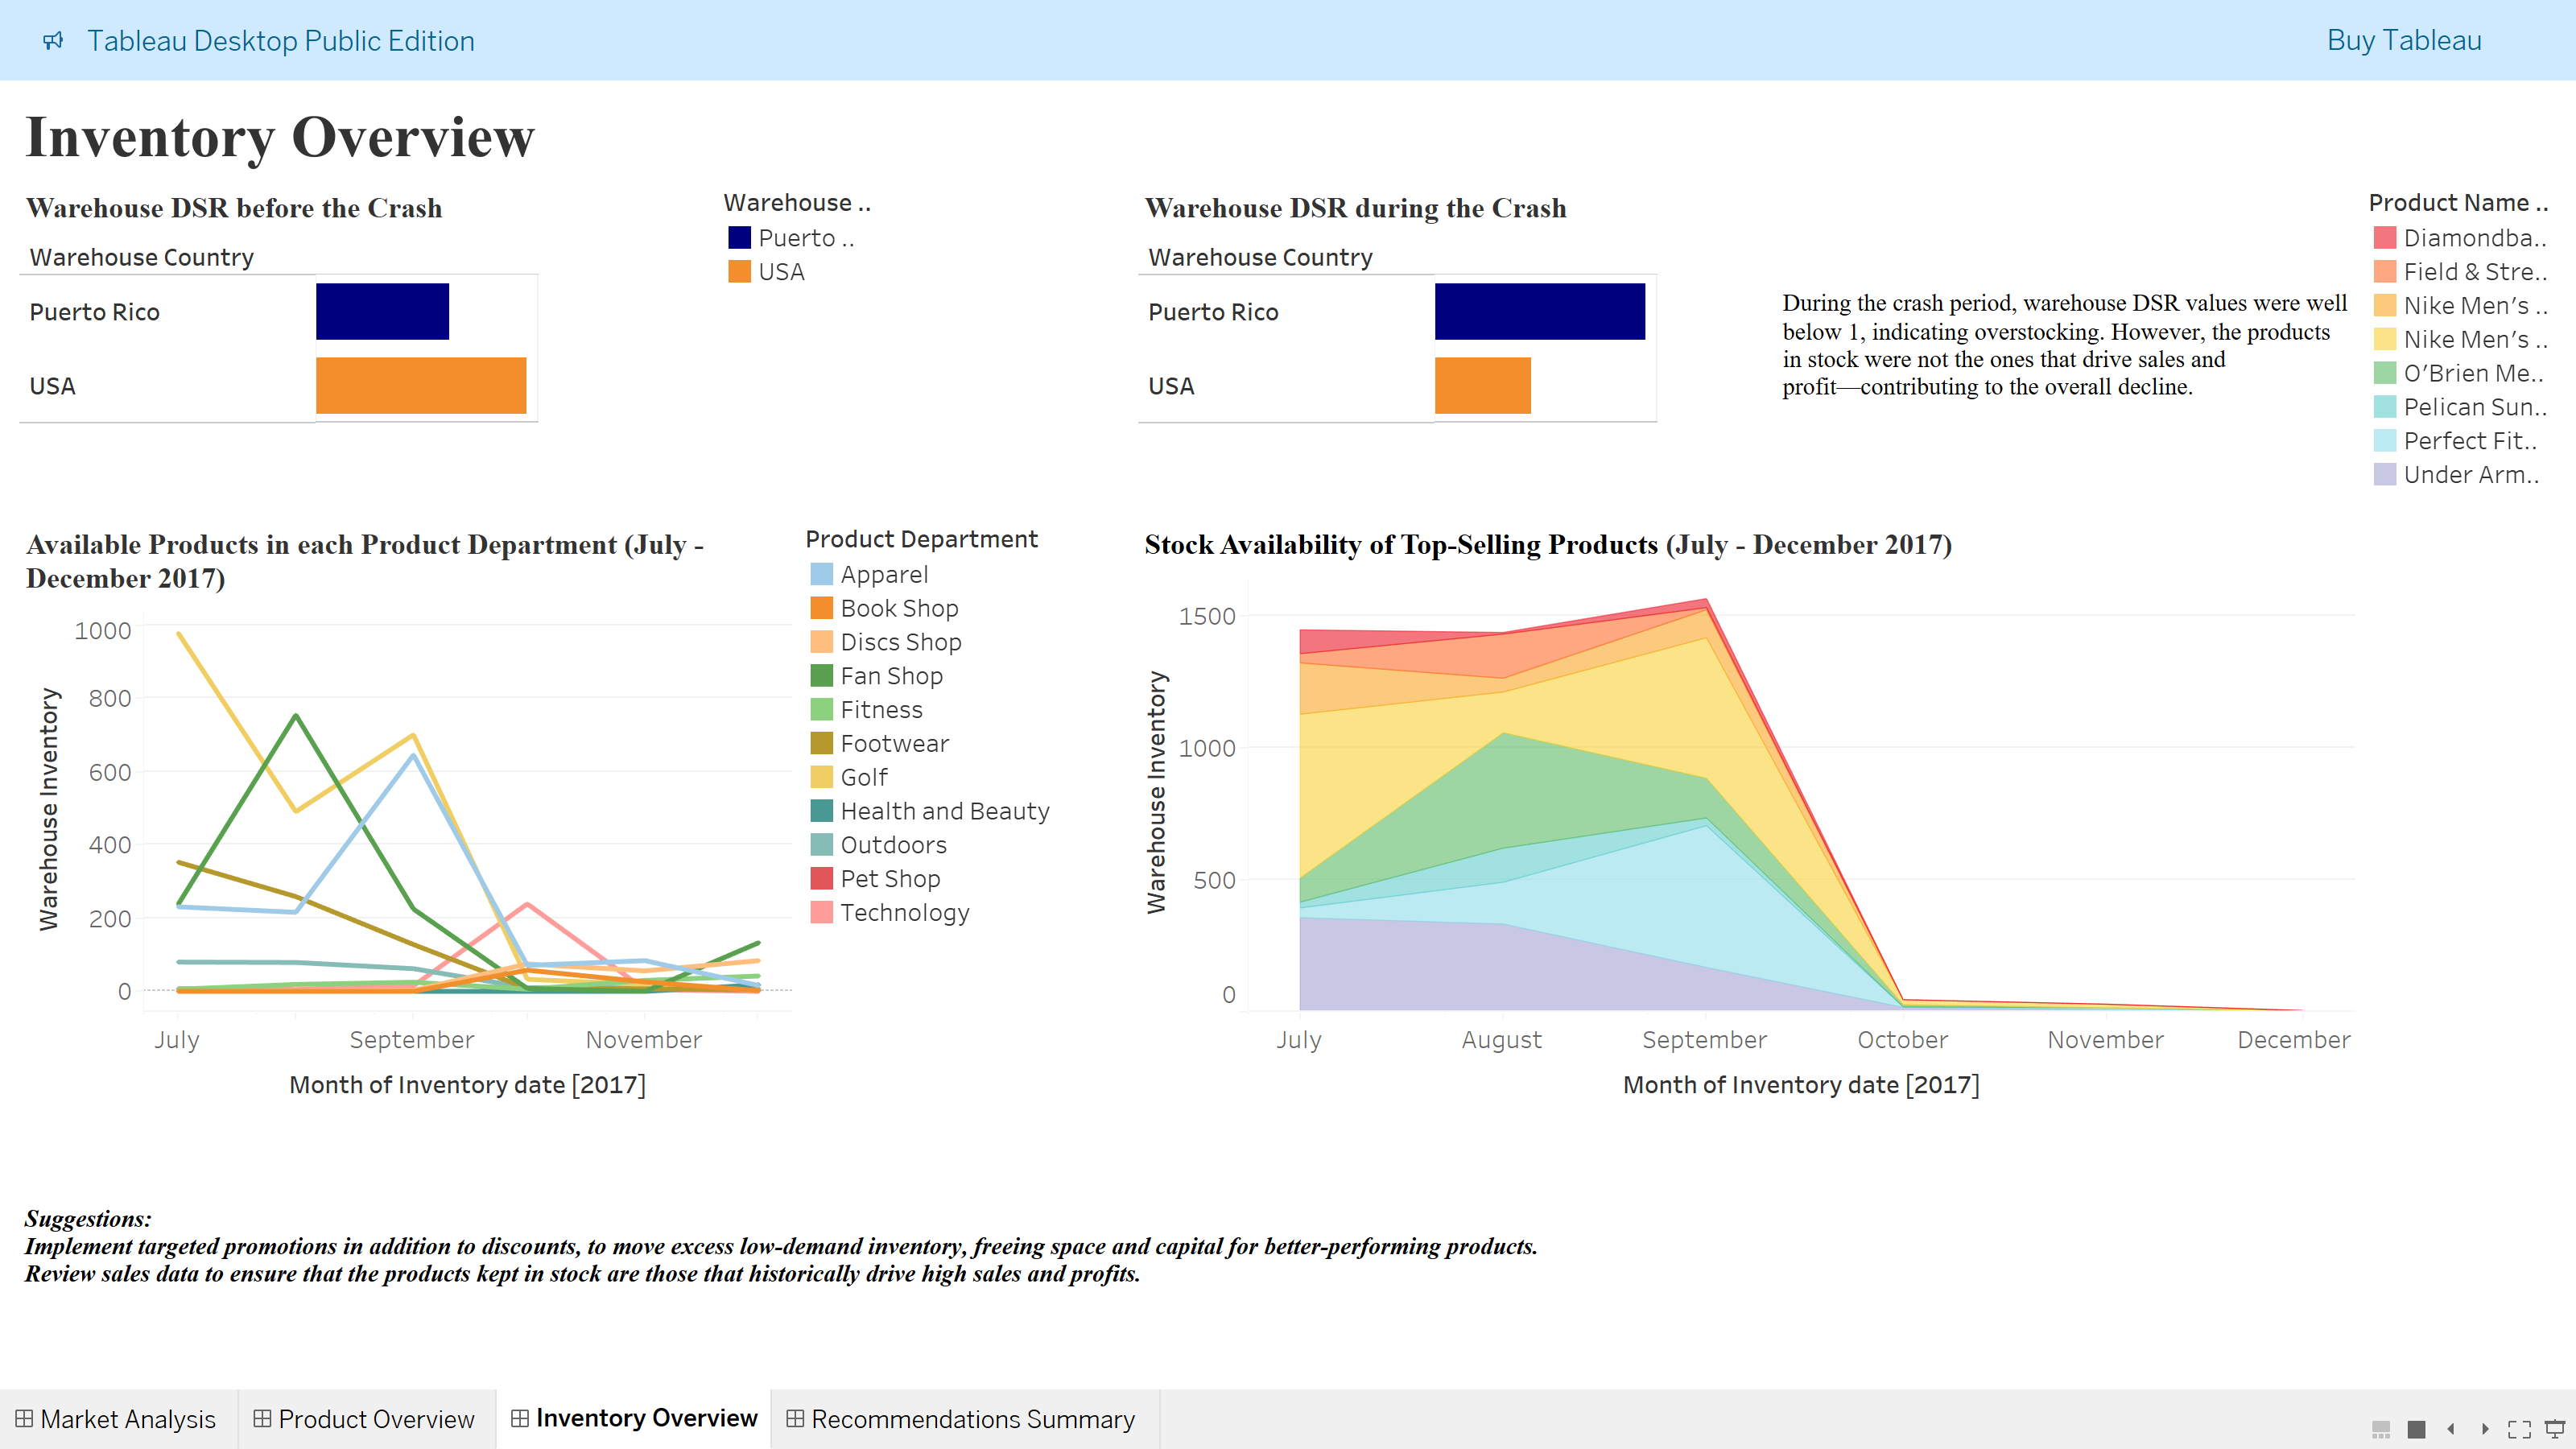

This screenshot's page, from the dashboard's own definition file:
{"tool":"tableau","page":{"name":"Inventory Overview","canvas":[1000,1000],"units":"permille","ordinal":0},"visuals":[{"type":"title","box":[6,12.9,988,64.7]},{"type":"worksheet","title":"Sheet 23","mark":"GanttBar","rows":["Warehouse Country"],"box":[6,77.5,326.9,255.2]},{"type":"legend","title":"Sheet 23 (2)","param":"[federated.1p3jwe11lrjc0614ro7zn1ldq7go].[none:Warehouse Country:nk]","box":[332.8,77.5,77,255.2]},{"type":"worksheet","title":"Sheet 23 (2)","mark":"GanttBar","rows":["Warehouse Country"],"box":[439.8,77.5,247.5,255.2]},{"type":"text","box":[687.2,77.5,228.8,255.2]},{"type":"legend","title":"Sheet 21","param":"[federated.1p3jwe11lrjc0614ro7zn1ldq7go].[none:Product Name (inventory):nk]","box":[916.1,77.5,77.9,713.4]},{"type":"worksheet","title":"Sheet 20","mark":"Automatic","rows":["Warehouse Inventory"],"cols":["Calculation_246290609572212736"],"box":[6,332.7,365,458.2]},{"type":"legend","title":"Sheet 20","param":"[federated.1p3jwe11lrjc0614ro7zn1ldq7go].[none:Product Department:nk]","box":[371,332.7,68.8,458.2]},{"type":"worksheet","title":"Sheet 21","mark":"Area","rows":["Warehouse Inventory"],"cols":["Calculation_246290609572212736"],"box":[439.8,332.8,476.3,458.2]},{"type":"text","box":[6,791,988,196.2]}]}

Visuals, with their boxes on the dashboard's canvas, which has no fixed pixel size, in thousandths of its width and height (x1, y1, x2, y2). These are canvas units, not pixel positions in the 2576x1449 screenshot, which may show the page scaled, cropped or inside an application window:
title: locate(6, 13, 994, 78)
"Sheet 23" worksheet (GanttBar marks): locate(6, 78, 333, 333)
"Sheet 23 (2)" legend: locate(333, 78, 410, 333)
"Sheet 23 (2)" worksheet (GanttBar marks): locate(440, 78, 687, 333)
text: locate(687, 78, 916, 333)
"Sheet 21" legend: locate(916, 78, 994, 791)
"Sheet 20" worksheet: locate(6, 333, 371, 791)
"Sheet 20" legend: locate(371, 333, 440, 791)
"Sheet 21" worksheet (Area marks): locate(440, 333, 916, 791)
text: locate(6, 791, 994, 987)
